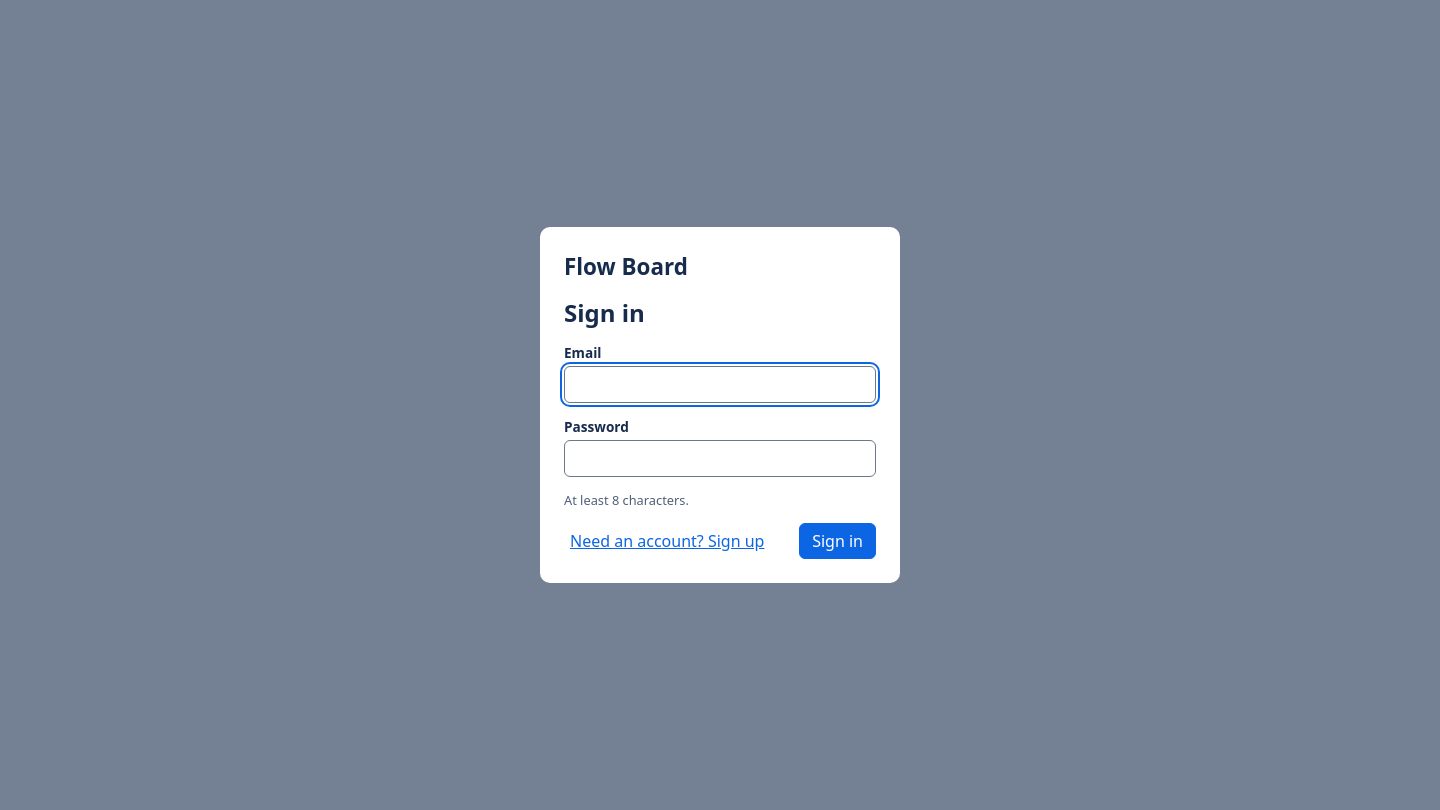
Test: AuthGate › REGRESSION: failed sign-in shows a generic message that does not reveal whether the account exists
Type " a@b.co " into the field labelled "Email" at (720, 384), box x1=564 y1=366 x2=876 y2=403
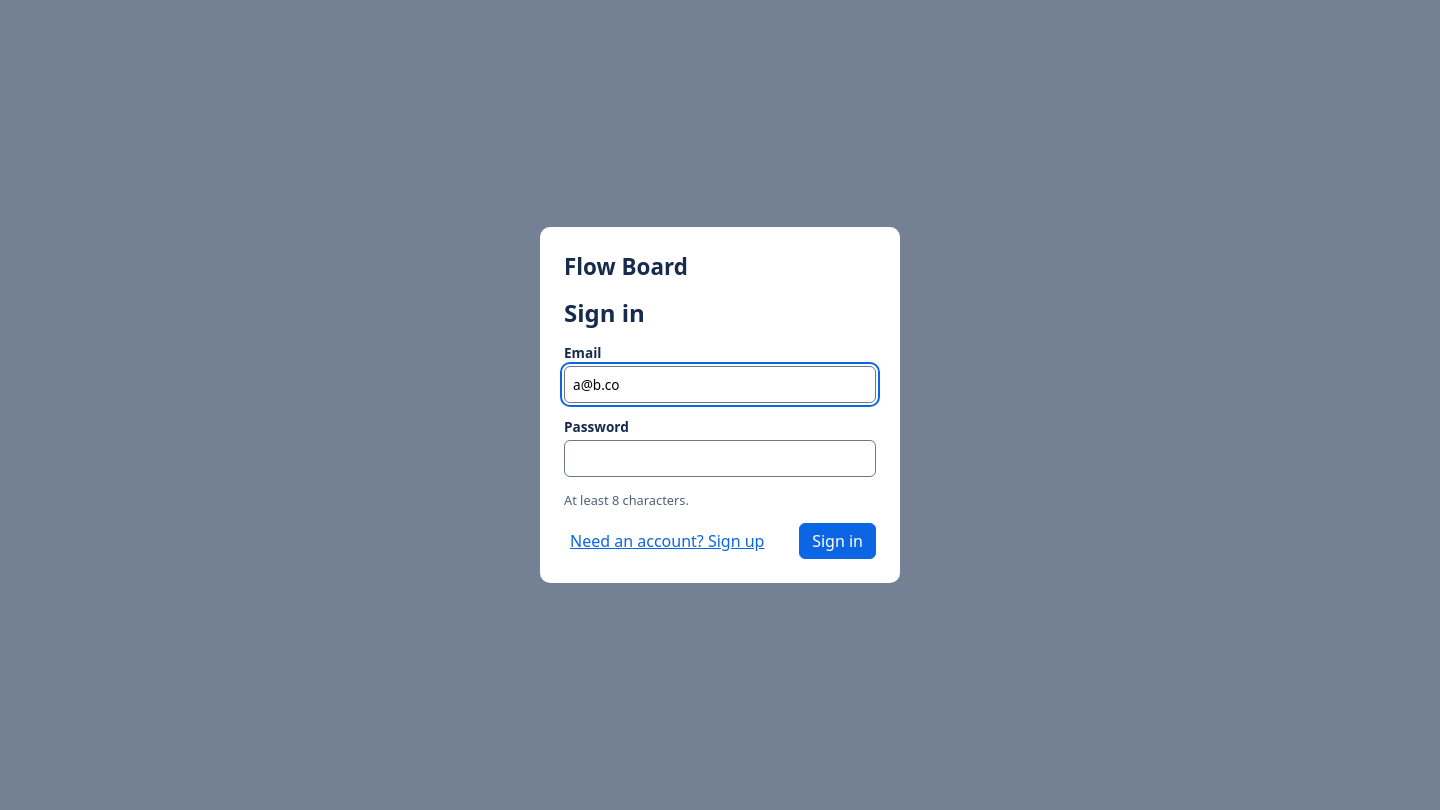
Type "password1" into the password field labelled "Password" at (720, 458), box x1=564 y1=440 x2=876 y2=477
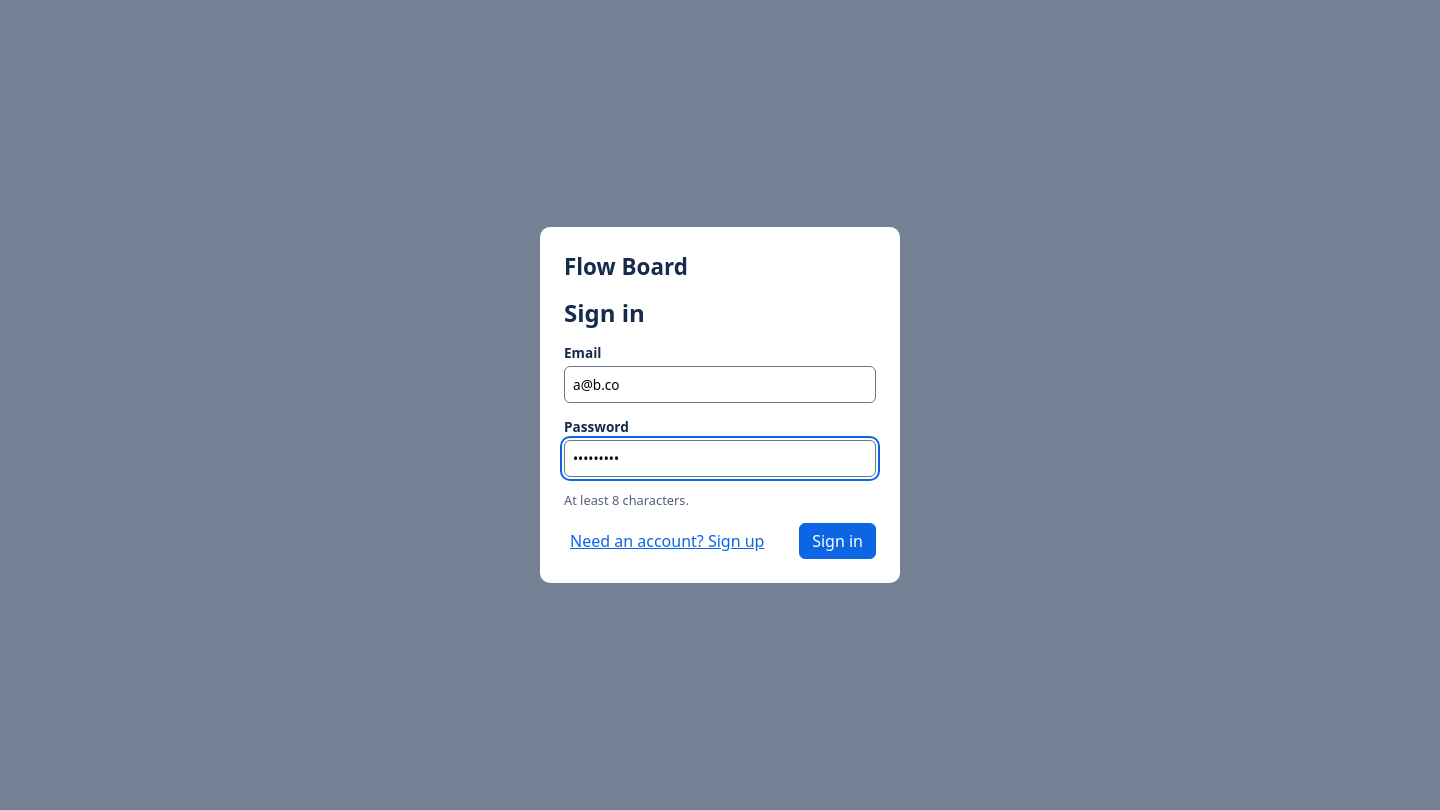
Click the button "Sign in" at (838, 541), box x1=799 y1=523 x2=876 y2=559
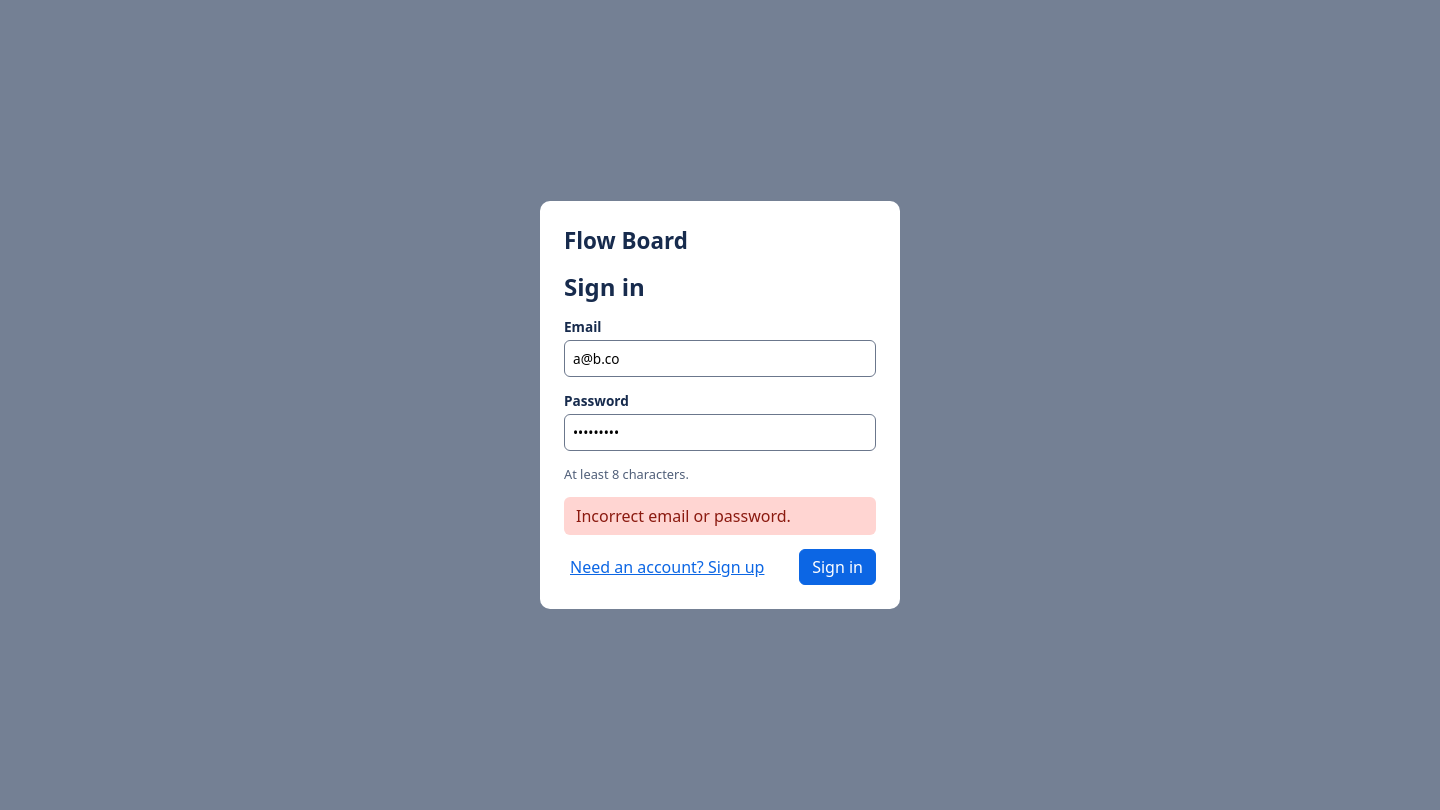
expect the message reads "Incorrect email or password.": met, box x1=576 y1=505 x2=791 y2=527
